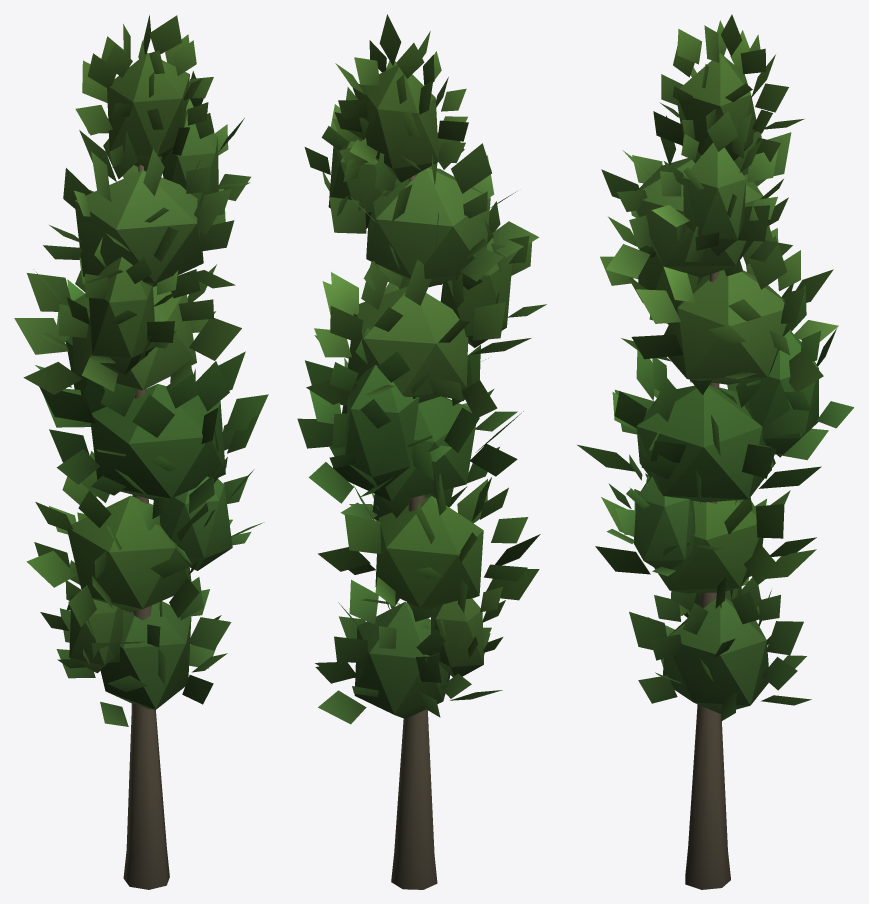
The model's file is poplar_a.glb.
3 renders of one model, left to right at view 1: azimuth 30°, elevation 25°; view 2: azimuth 150°, elevation 25°; view 3: azimuth 270°, elevation 25°, orthographic.
Parts seen in each view (by area): view 1: poplar_a; view 2: poplar_a; view 3: poplar_a.
Part boxes in pixels (bbox=[...]): poplar_a: bbox=[14, 15, 268, 889]; poplar_a: bbox=[297, 14, 546, 889]; poplar_a: bbox=[577, 14, 853, 889].
Bounding box in the file's own units: 3.2 × 11.88 × 3.45.
